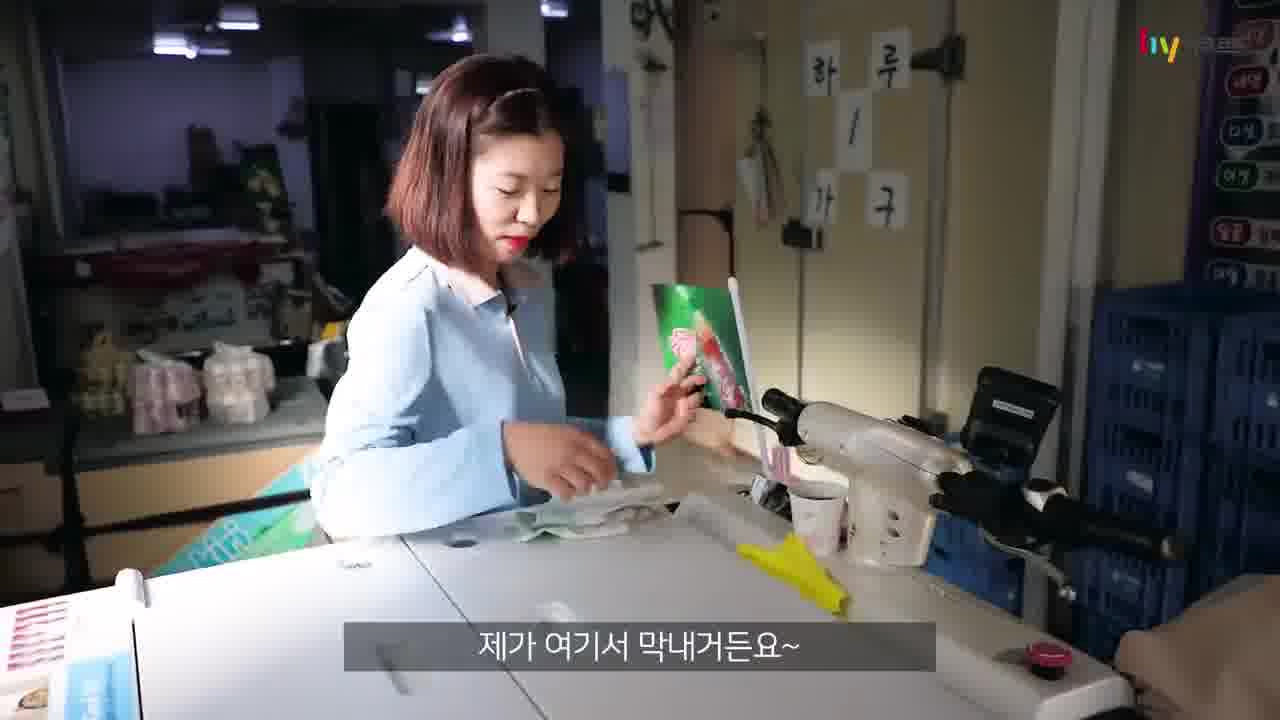Yakurut: (296, 40, 745, 550)
